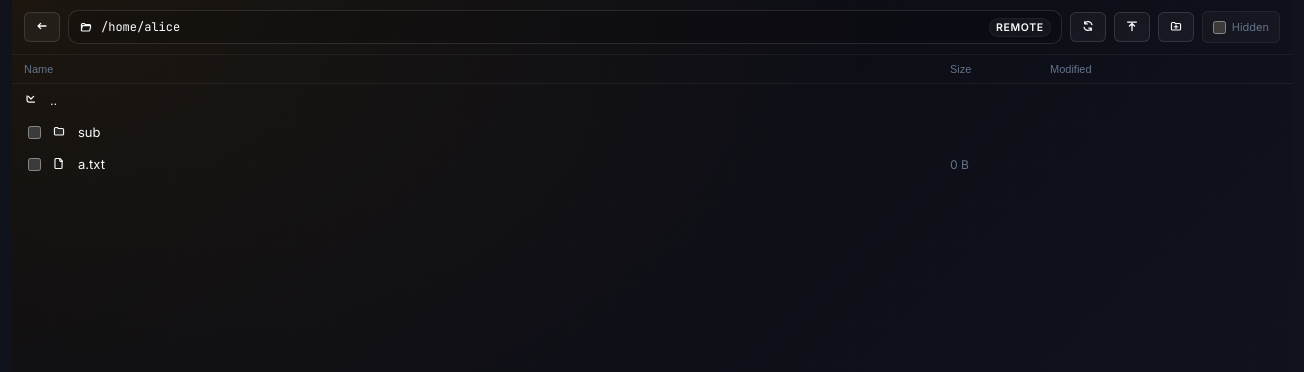
Test: FileBrowser › single-clicking a directory selects it without navigating
Click the option "sub".
click(64, 132)  # box [28, 124, 100, 140]
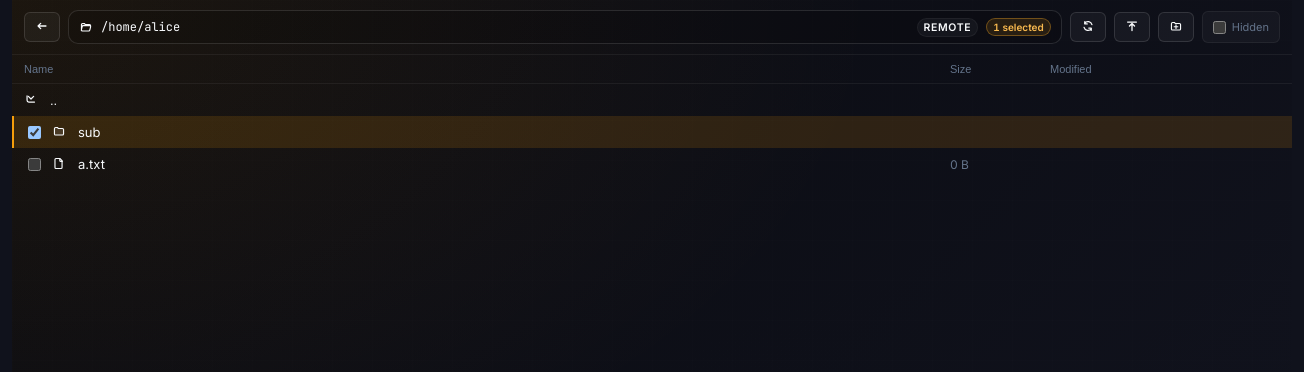
Now the checkbox named "Select sub" is checked, box [28, 126, 41, 138]
